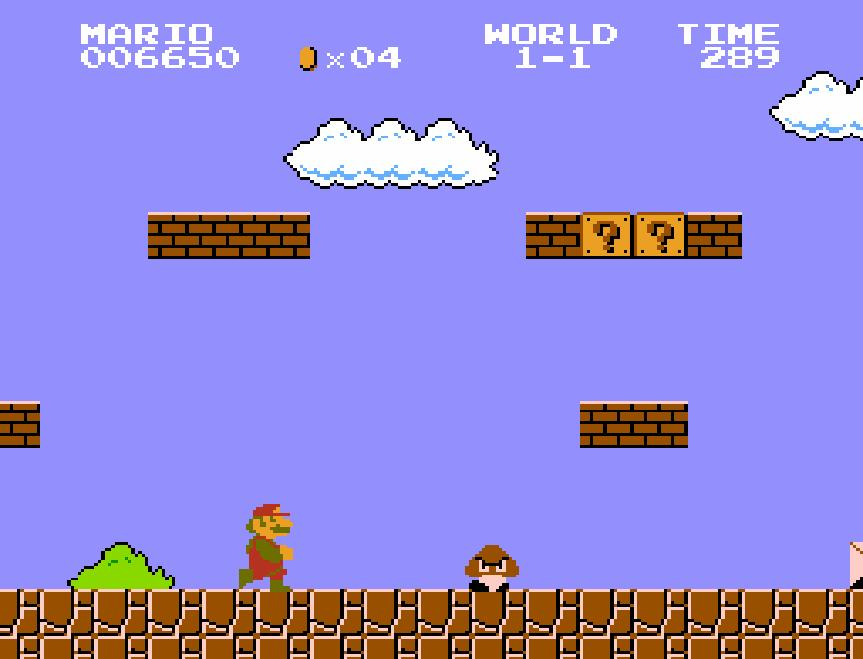big_mario: (236, 496, 294, 594)
